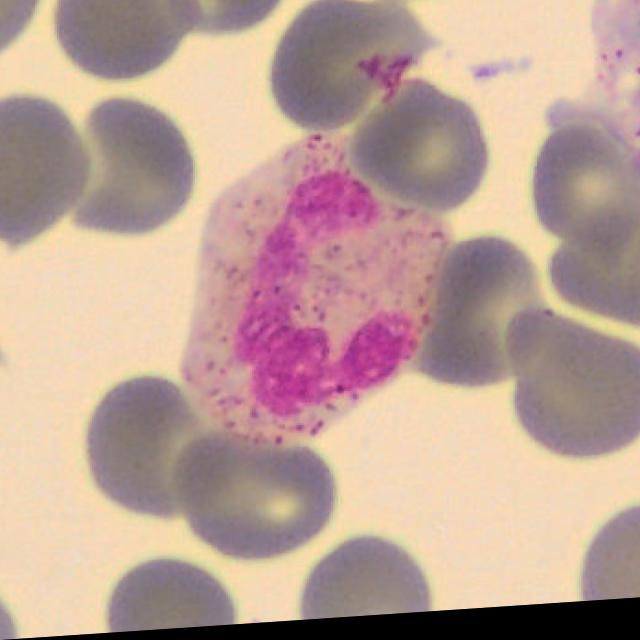Neutrofilo segmentado: (180, 138, 449, 451)
